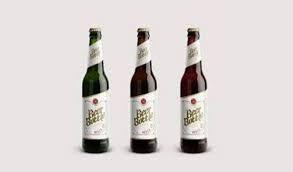Glass bottle: (70, 24, 114, 158), (120, 21, 162, 157), (173, 19, 214, 153)
